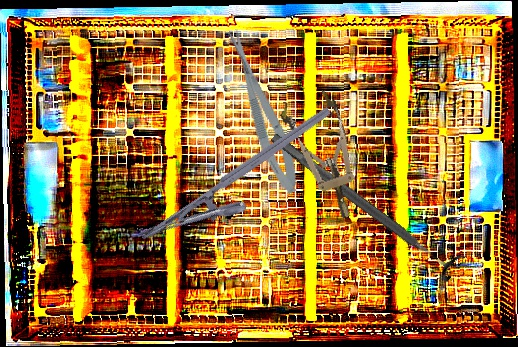Fixation Ring: (263, 122, 467, 284)
Micro Scissor: (221, 24, 306, 198)
Needle Holder: (138, 105, 350, 268)
Speculum: (276, 86, 373, 227)
